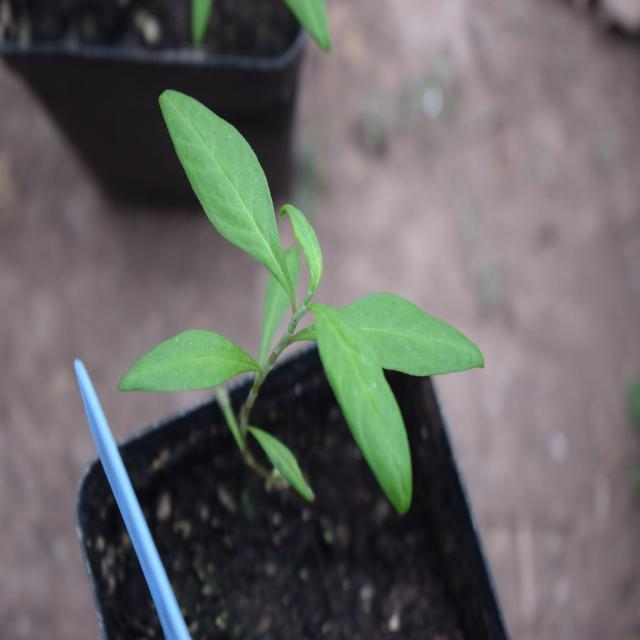white_smart_weed: (137, 71, 459, 491)
